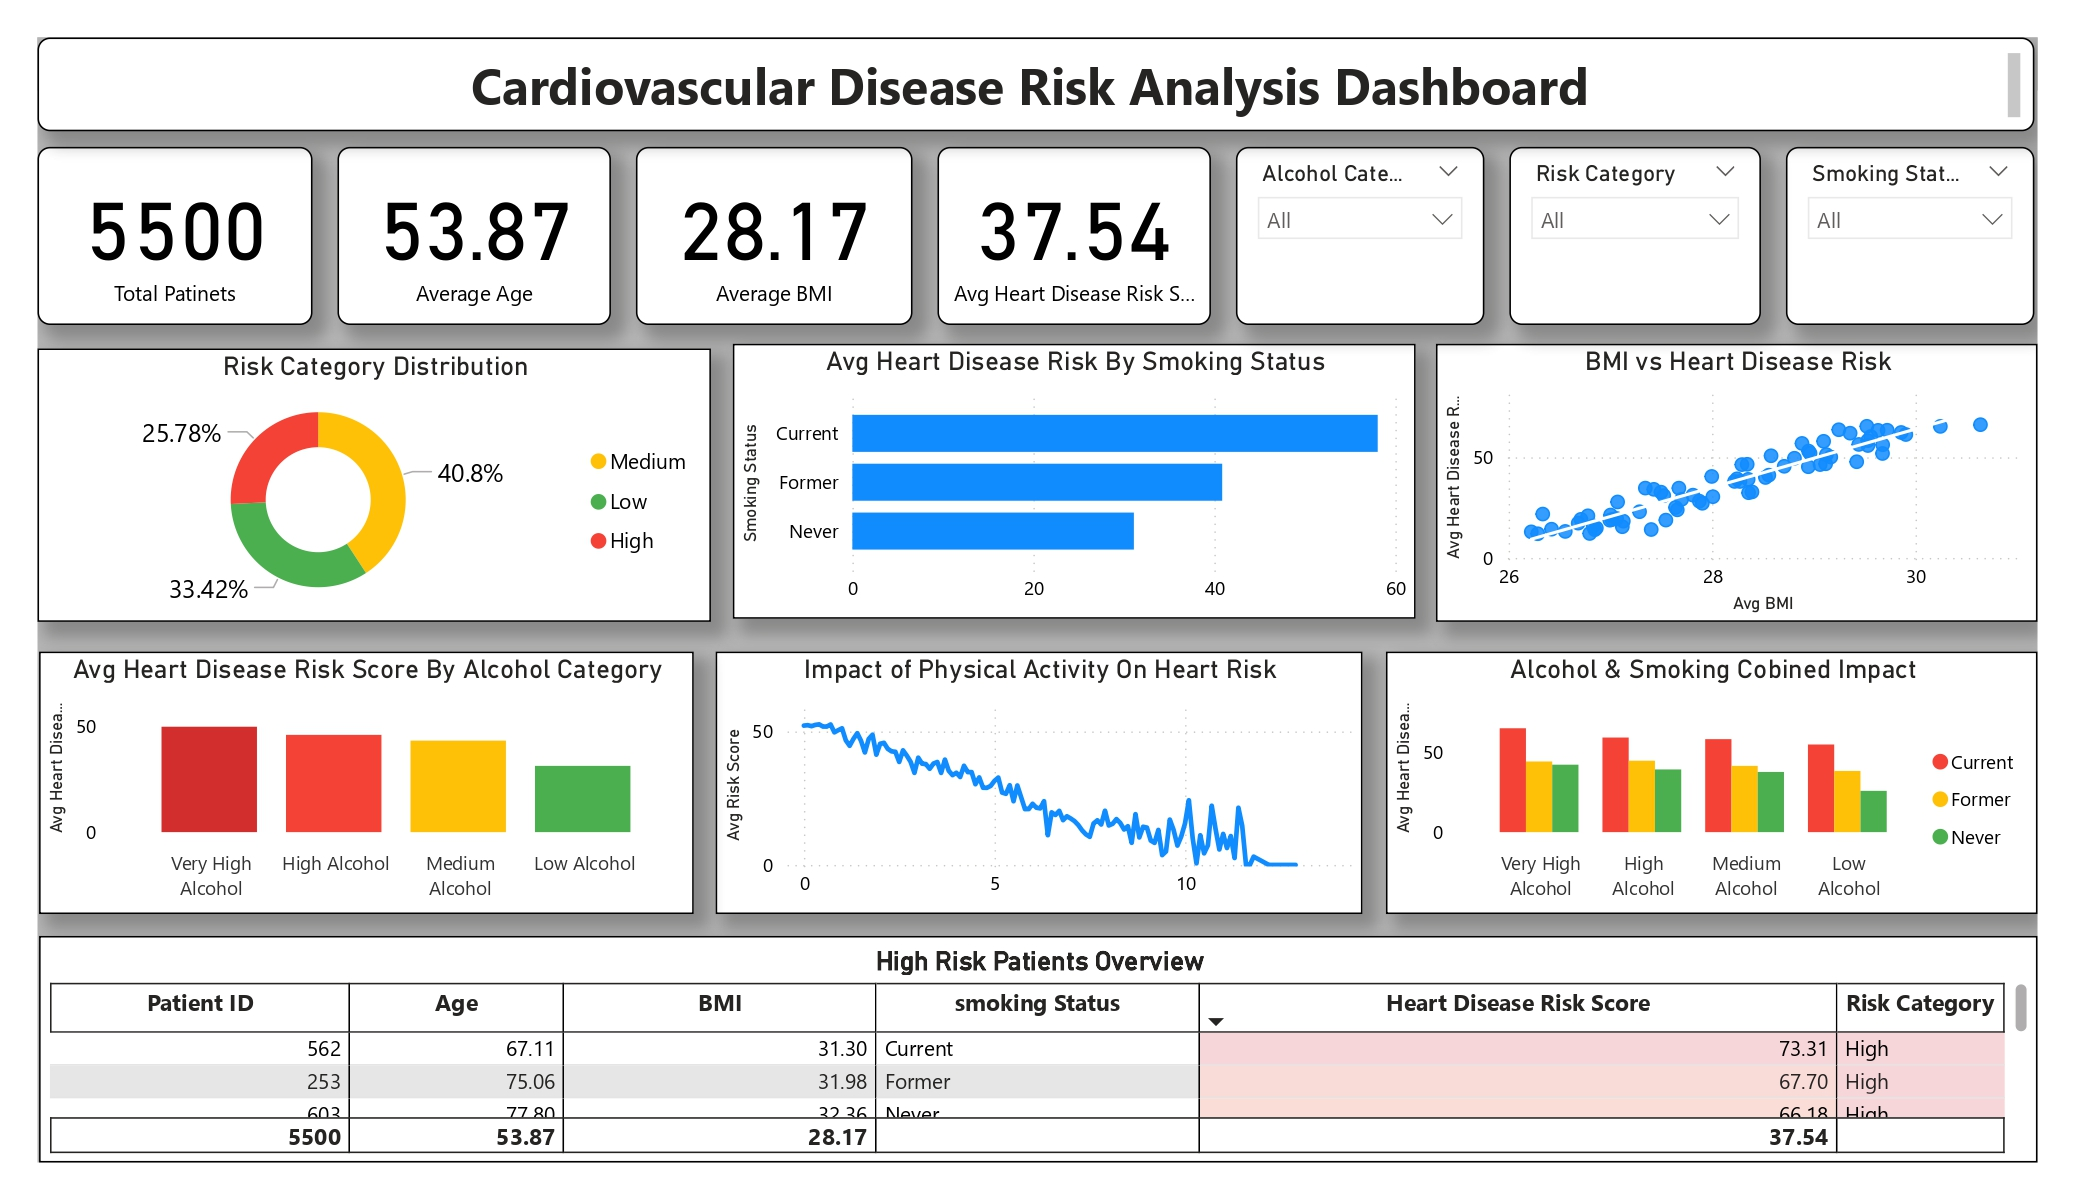

The page's visual inventory and layout, read from the dashboard file:
{"tool":"powerbi","page":{"name":"Page 1","canvas":[1280,720],"ordinal":0},"visuals":[{"type":"card","fields":{"Values":["CountNonNull(cardiovascular_risk_dataset.Patient_ID)"]},"box":[0,69.7,176.5,113.9],"z":0},{"type":"card","fields":{"Values":["Avg(cardiovascular_risk_dataset.age)"]},"box":[192.4,69.7,175.1,113.9],"z":1000},{"type":"card","fields":{"Values":["Avg(cardiovascular_risk_dataset.bmi)"]},"box":[383.4,69.7,176.5,113.9],"z":2000},{"type":"card","fields":{"Values":["Avg(cardiovascular_risk_dataset.heart_disease_risk_score)"]},"box":[575.8,69.7,175.1,113.9],"z":3000},{"type":"donutChart","title":" Risk Category Distribution","fields":{"Category":["cardiovascular_risk_dataset.risk_category"],"Y":["CountNonNull(cardiovascular_risk_dataset.Patient_ID)"]},"box":[0,199.3,431.3,175.1],"z":4000},{"type":"barChart","title":"Avg Heart Disease Risk By Smoking Status","fields":{"Y":["Avg(cardiovascular_risk_dataset.heart_disease_risk_score)"],"Category":["cardiovascular_risk_dataset.smoking_status"]},"box":[444.8,196.4,437,175.1],"z":5000},{"type":"scatterChart","title":"BMI  vs Heart Disease Risk","fields":{"X":["Avg(cardiovascular_risk_dataset.bmi)"],"Y":["Avg(cardiovascular_risk_dataset.heart_disease_risk_score)"],"Category":["cardiovascular_risk_dataset.age"]},"box":[895.3,196.4,384.3,177.9],"z":6000},{"type":"lineChart","title":" Impact of Physical Activity  On  Heart Risk","fields":{"Category":["cardiovascular_risk_dataset.physical_activity_hours_per_week"],"Y":["Avg(cardiovascular_risk_dataset.heart_disease_risk_score)"]},"box":[434.1,392.9,414.2,168],"z":7000},{"type":"clusteredColumnChart","title":"Alcohol & Smoking Cobined Impact","fields":{"Category":["cardiovascular_risk_dataset.Alcohol_Category"],"Y":["Avg(cardiovascular_risk_dataset.heart_disease_risk_score)"],"Series":["cardiovascular_risk_dataset.smoking_status"]},"box":[862.6,392.9,417.1,168],"z":8000},{"type":"columnChart","title":"Avg Heart Disease Risk Score By Alcohol Category","fields":{"Category":["cardiovascular_risk_dataset.Alcohol_Category"],"Y":["Avg(cardiovascular_risk_dataset.heart_disease_risk_score)"]},"box":[1.4,392.9,418.5,168],"z":9000},{"type":"tableEx","title":"High Risk Patients Overview ","fields":{"Values":["CountNonNull(cardiovascular_risk_dataset.Patient_ID)","Avg(cardiovascular_risk_dataset.age)","Avg(cardiovascular_risk_dataset.bmi)","cardiovascular_risk_dataset.smoking_status","Avg(cardiovascular_risk_dataset.heart_disease_risk_score)","cardiovascular_risk_dataset.risk_category"]},"box":[1.4,575,1278.2,145.2],"z":10000},{"type":"slicer","fields":{"Values":["cardiovascular_risk_dataset.Alcohol_Category"]},"box":[766.7,69.7,159.4,113.9],"z":11000},{"type":"slicer","fields":{"Values":["cardiovascular_risk_dataset.smoking_status"]},"box":[1118.8,69.7,159.4,113.9],"z":12000},{"type":"slicer","fields":{"Values":["cardiovascular_risk_dataset.risk_category"]},"box":[942,69.7,160.8,113.9],"z":13000},{"type":"textbox","box":[0,0,1278.2,59.8],"z":14000}]}

Visuals, with their boxes in screenshot pixels (x1, y1, x2, y2):
card - CountNonNull(cardiovascular_risk_dataset.Patient_ID): (x1=54, y1=145, x2=326, y2=321)
card - Avg(cardiovascular_risk_dataset.age): (x1=351, y1=145, x2=621, y2=321)
card - Avg(cardiovascular_risk_dataset.bmi): (x1=645, y1=145, x2=917, y2=321)
card - Avg(cardiovascular_risk_dataset.heart_disease_risk_score): (x1=942, y1=145, x2=1212, y2=321)
" Risk Category Distribution" donutChart: (x1=54, y1=345, x2=719, y2=615)
"Avg Heart Disease Risk By Smoking Status" barChart: (x1=740, y1=341, x2=1414, y2=611)
"BMI  vs Heart Disease Risk" scatterChart: (x1=1435, y1=341, x2=2027, y2=615)
" Impact of Physical Activity  On  Heart Risk" lineChart: (x1=723, y1=644, x2=1362, y2=903)
"Alcohol & Smoking Cobined Impact" clusteredColumnChart: (x1=1384, y1=644, x2=2027, y2=903)
"Avg Heart Disease Risk Score By Alcohol Category" columnChart: (x1=56, y1=644, x2=702, y2=903)
"High Risk Patients Overview " tableEx: (x1=56, y1=924, x2=2027, y2=1148)
slicer - cardiovascular_risk_dataset.Alcohol_Category: (x1=1236, y1=145, x2=1482, y2=321)
slicer - cardiovascular_risk_dataset.smoking_status: (x1=1779, y1=145, x2=2025, y2=321)
slicer - cardiovascular_risk_dataset.risk_category: (x1=1507, y1=145, x2=1755, y2=321)
textbox: (x1=54, y1=38, x2=2025, y2=130)
